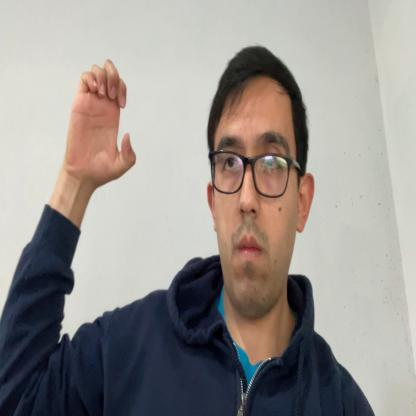E: (64, 60, 136, 183)
